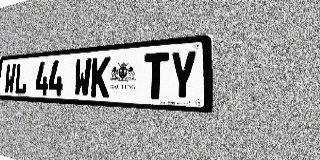4: (48, 60, 64, 96), (35, 61, 50, 95)
K: (90, 56, 110, 98)
L: (14, 63, 28, 95)
T: (143, 52, 169, 100)
W: (73, 58, 92, 97), (4, 63, 16, 94)
Y: (169, 50, 197, 101)
